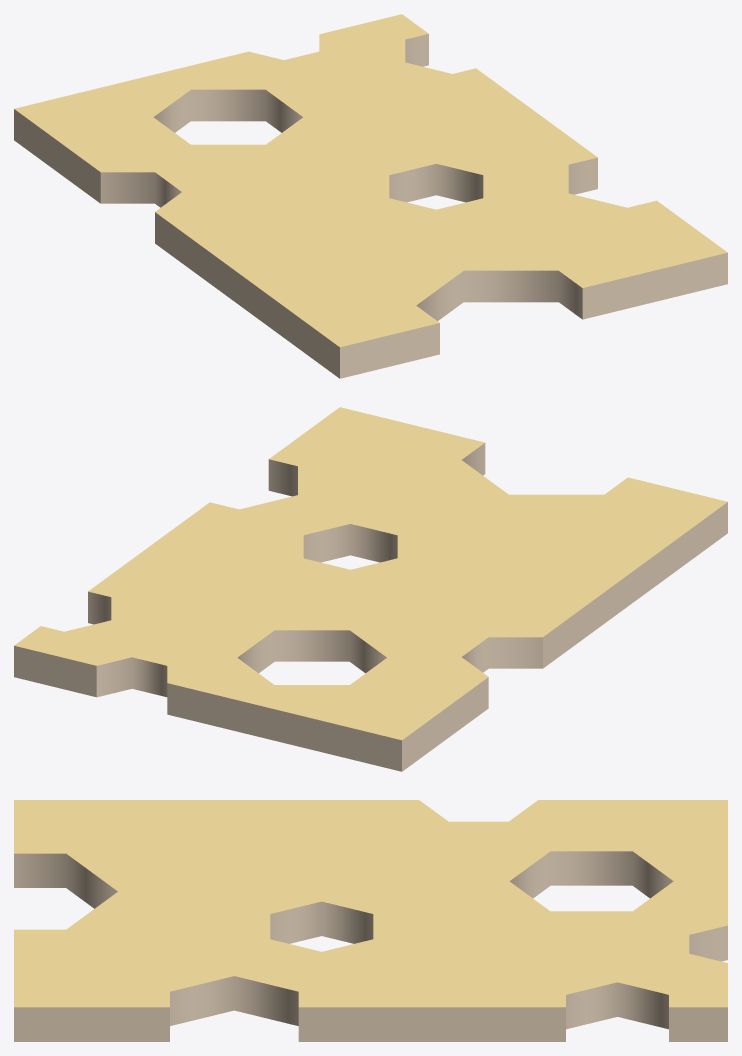
The model's file is cheeseCut.fbx.
The picture shows the model from 3 angles, top to bottom: view 1: azimuth 30°, elevation 25°; view 2: azimuth 150°, elevation 25°; view 3: azimuth 270°, elevation 25°; orthographic projection. The views are drawn at different scales.
Parts seen in each view (by area): view 1: cheeseCut; view 2: cheeseCut; view 3: cheeseCut.
Boxes of the visible parts, <box> form: cheeseCut: <box>14,14,727,378</box>; cheeseCut: <box>14,407,727,771</box>; cheeseCut: <box>14,800,727,1041</box>.
Size of the model in its own units: 2640 by 205 by 3840.
